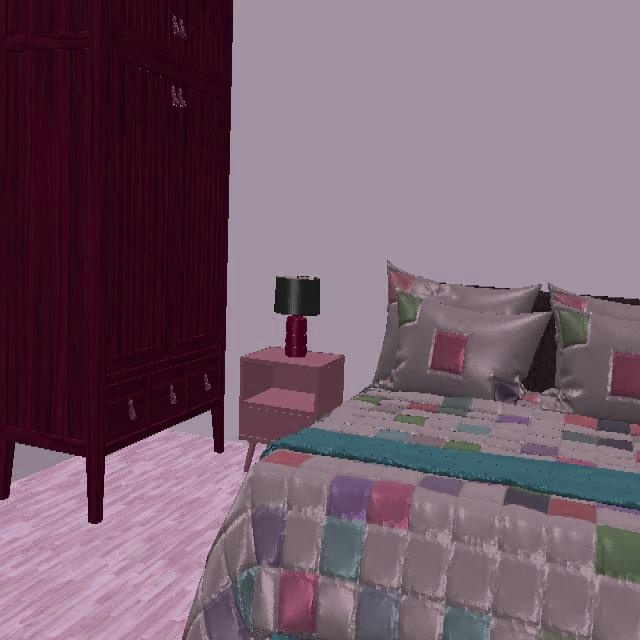bed: (185, 385, 640, 638)
cabinet: (0, 0, 232, 523)
lamp: (274, 277, 320, 358)
nighttable: (239, 347, 345, 471)
pillow: (375, 264, 549, 399), (549, 285, 640, 422)
